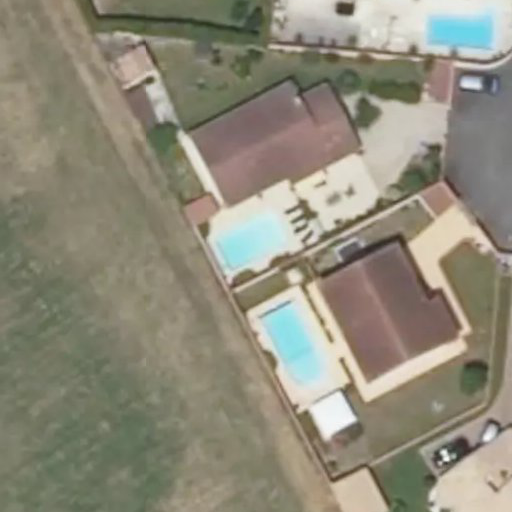pool: (258, 300, 337, 390), (215, 209, 288, 268), (426, 9, 498, 53)
